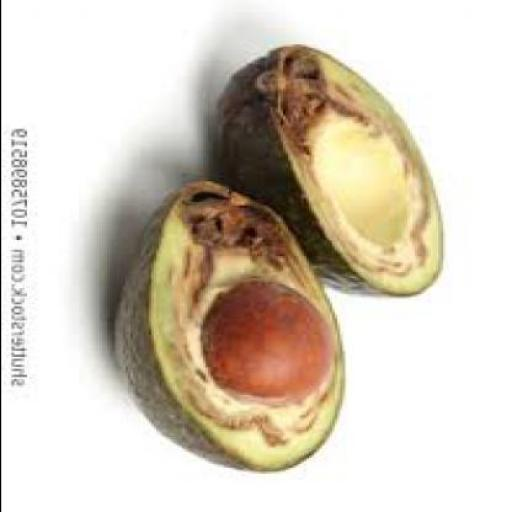biodegradable: (111, 184, 352, 476), (215, 47, 447, 300), (201, 282, 342, 407)
